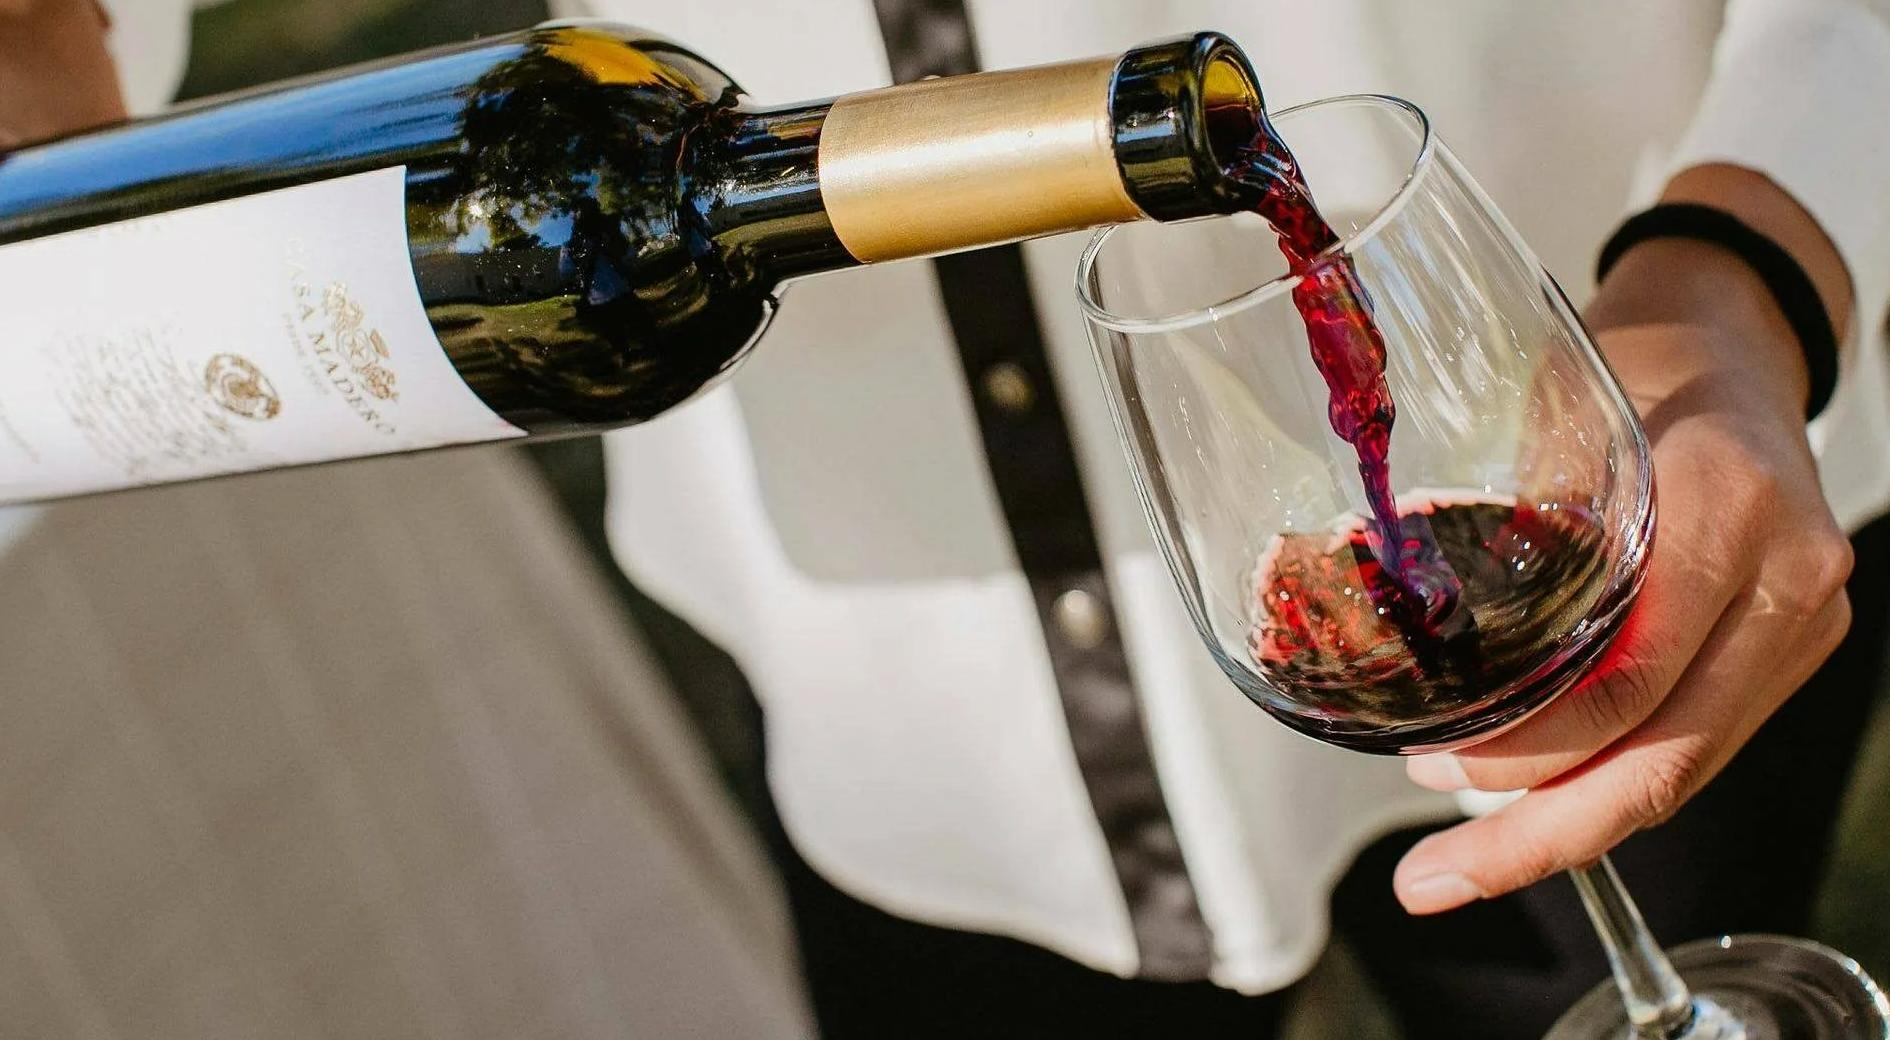wine bottle: (0, 15, 1275, 506)
wine label: (2, 166, 529, 501)
